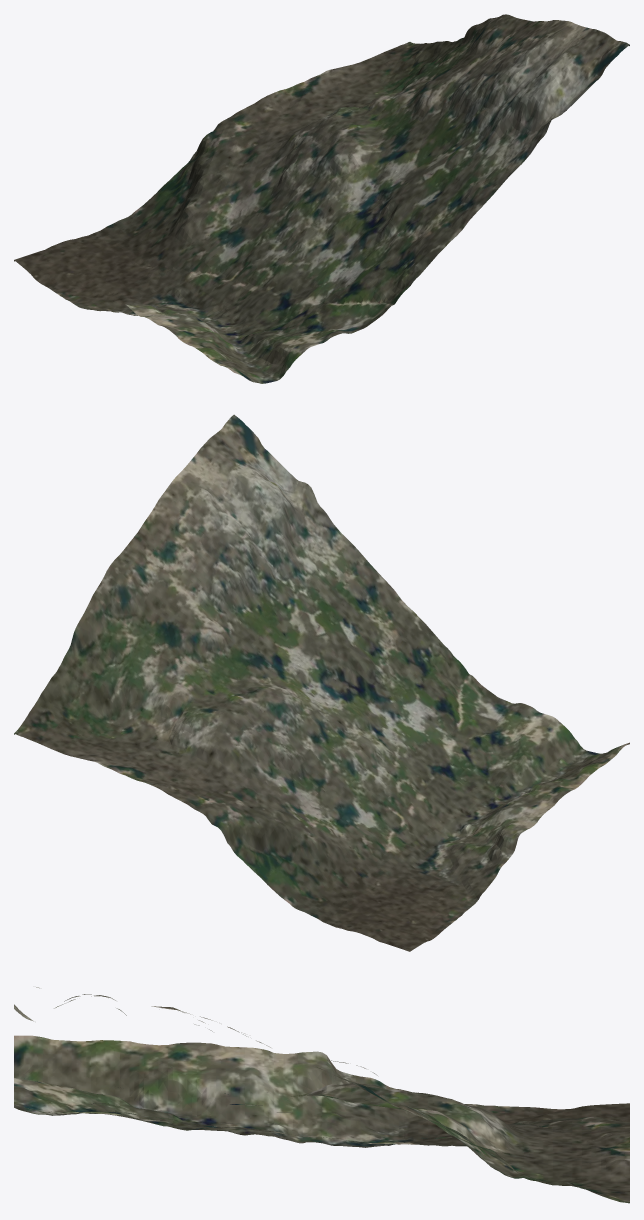
3 renders of one model, top to bottom at view 1: azimuth 30°, elevation 25°; view 2: azimuth 150°, elevation 25°; view 3: azimuth 270°, elevation 25°, orthographic. The views are drawn at different scales.
Size of the model in its own units: 250 by 172 by 241.
Materials: 1 (1 with a texture image).
